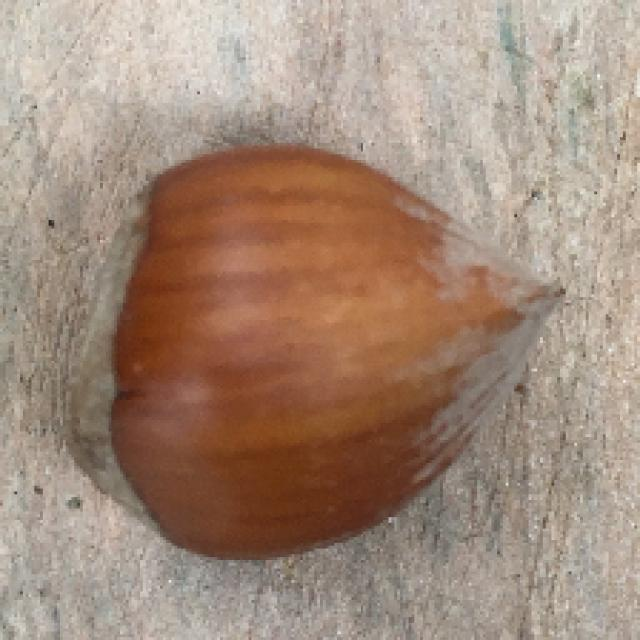qualityHazelnut: (56, 135, 565, 568)
